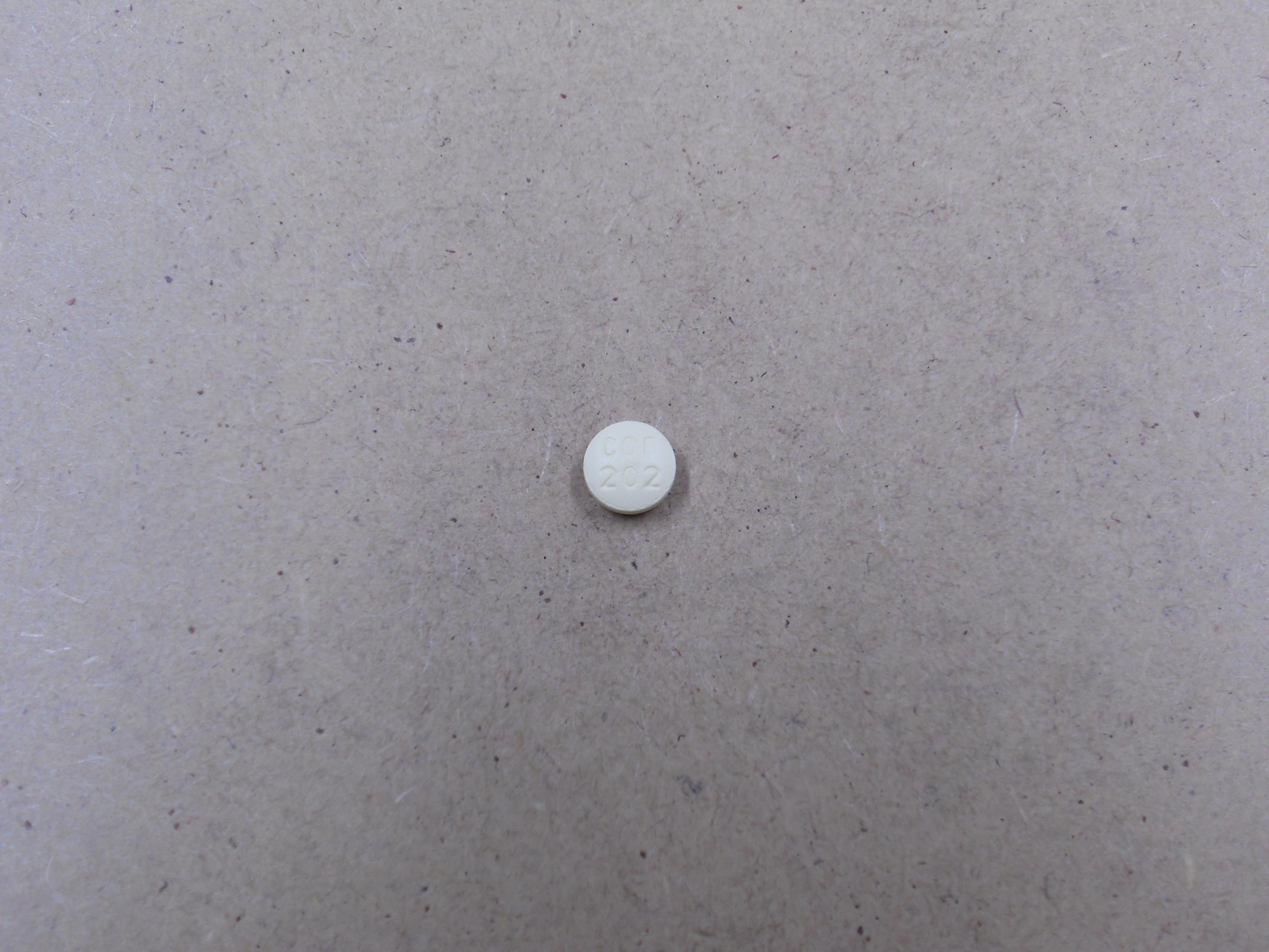Pill: (574, 416, 682, 522)
